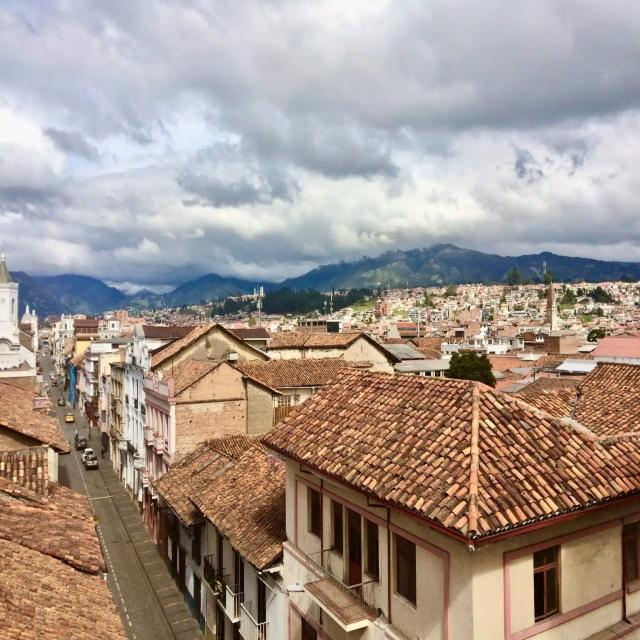Fachada: (263, 371, 640, 640), (0, 478, 127, 640), (189, 442, 286, 640), (152, 435, 257, 615), (143, 358, 258, 483), (121, 325, 188, 512), (512, 362, 640, 436), (0, 382, 70, 482), (0, 254, 39, 390), (268, 332, 400, 372), (82, 338, 124, 428), (383, 343, 448, 377), (108, 363, 124, 473), (143, 486, 168, 546), (458, 335, 510, 355), (74, 319, 99, 357), (98, 317, 119, 339), (298, 318, 327, 332)
